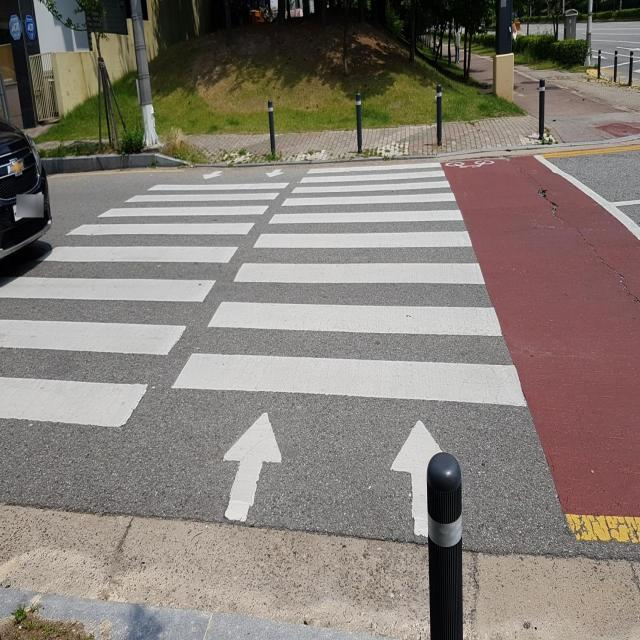횡단보도: (0, 161, 529, 539)
